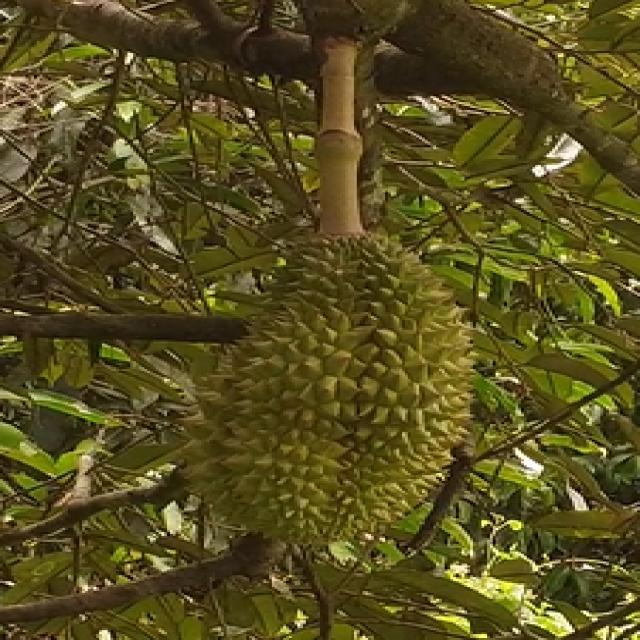immature: (180, 237, 474, 549)
